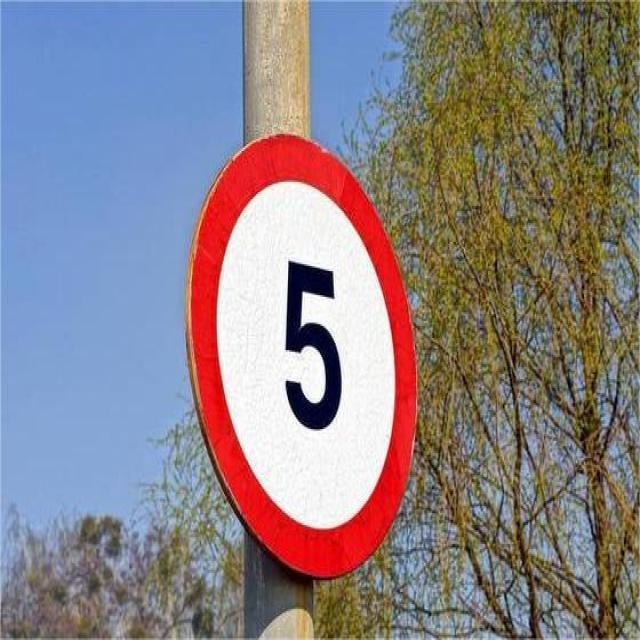speed limit 10: (185, 130, 421, 580)
